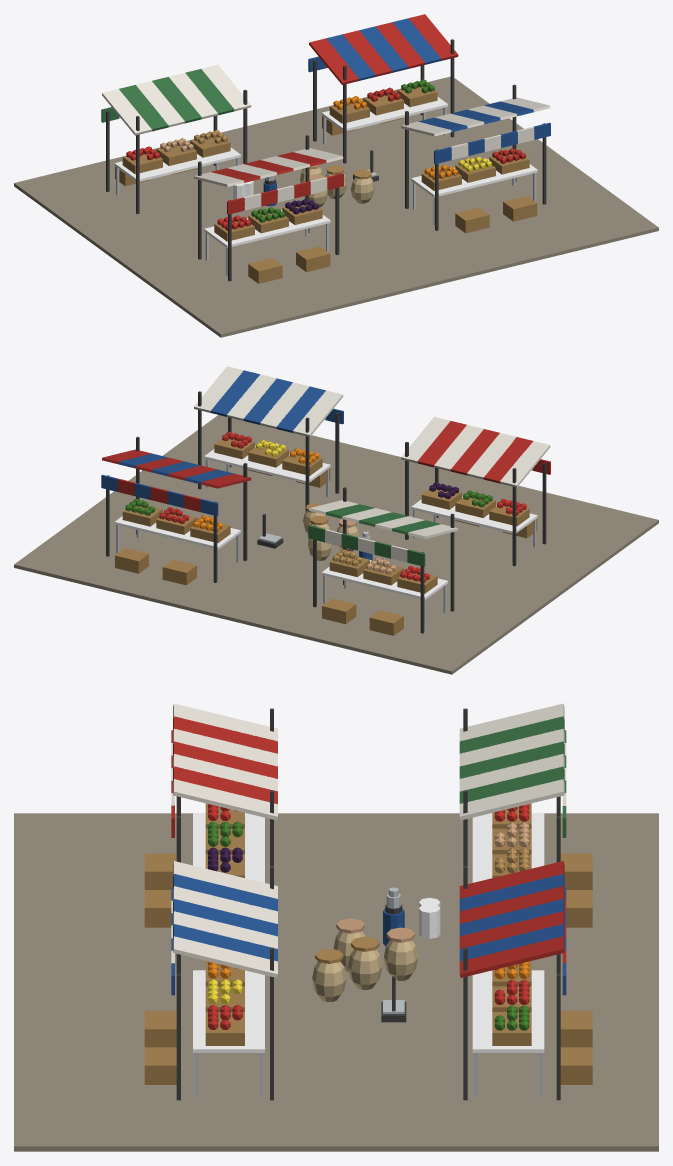
Rendered from pazar.glb.
3 renders of one model, top to bottom at view 1: azimuth 30°, elevation 25°; view 2: azimuth 150°, elevation 25°; view 3: azimuth 270°, elevation 25°, orthographic. The views are drawn at different scales.
Parts seen in each view (by area): view 1: Caydanlik; view 2: Caydanlik; view 3: Caydanlik.
Boxes of the visible parts, left/top/right/bottom form: Caydanlik: left=14, top=14, right=658, bottom=337; Caydanlik: left=14, top=366, right=658, bottom=674; Caydanlik: left=14, top=703, right=658, bottom=1151.
Bounding box in the file's own units: 1 × 0.2221 × 0.8182.
